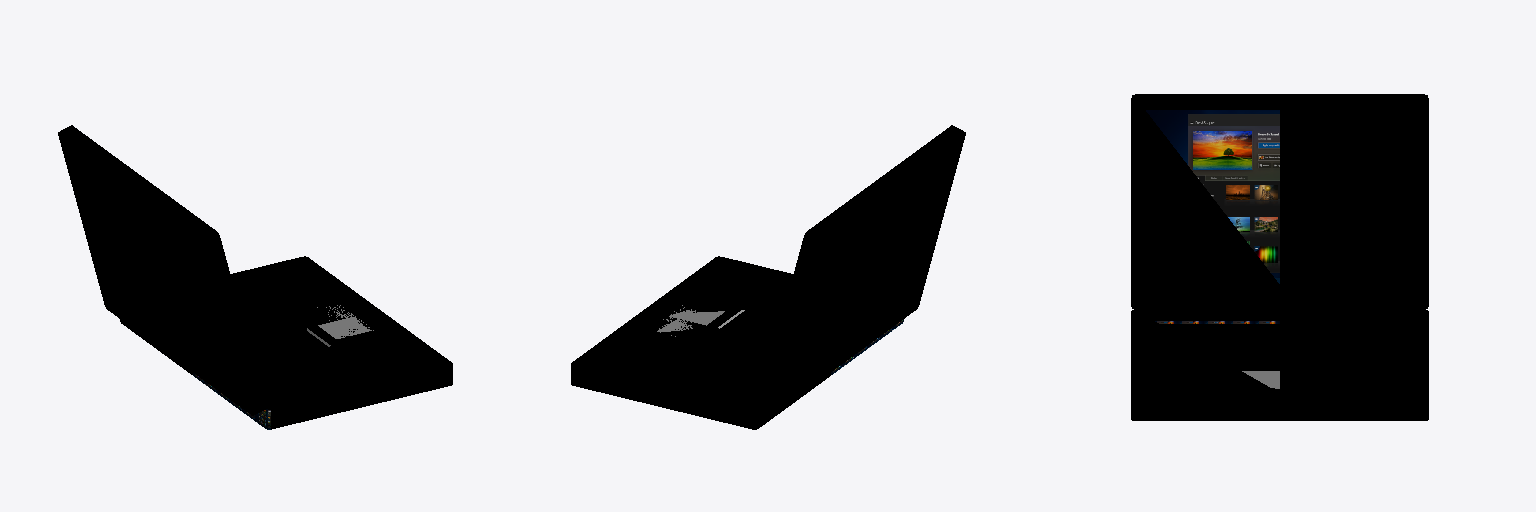
3 renders of one model, left to right at view 1: azimuth 30°, elevation 25°; view 2: azimuth 150°, elevation 25°; view 3: azimuth 270°, elevation 25°, orthographic.
Visible parts, largest first — view 1: laptop:Mesh21bottom1Computer_Laptop_Black1Model1; view 2: laptop:Mesh21bottom1Computer_Laptop_Black1Model1; view 3: laptop:Mesh21bottom1Computer_Laptop_Black1Model1.
Boxes of the visible parts, <box> form: laptop:Mesh21bottom1Computer_Laptop_Black1Model1: <box>58,125,452,429</box>; laptop:Mesh21bottom1Computer_Laptop_Black1Model1: <box>571,125,965,429</box>; laptop:Mesh21bottom1Computer_Laptop_Black1Model1: <box>1131,94,1428,420</box>.
Bounding box in the file's own units: 0.2871 × 0.2308 × 0.2972.
Materials: 5 (1 with a texture image).